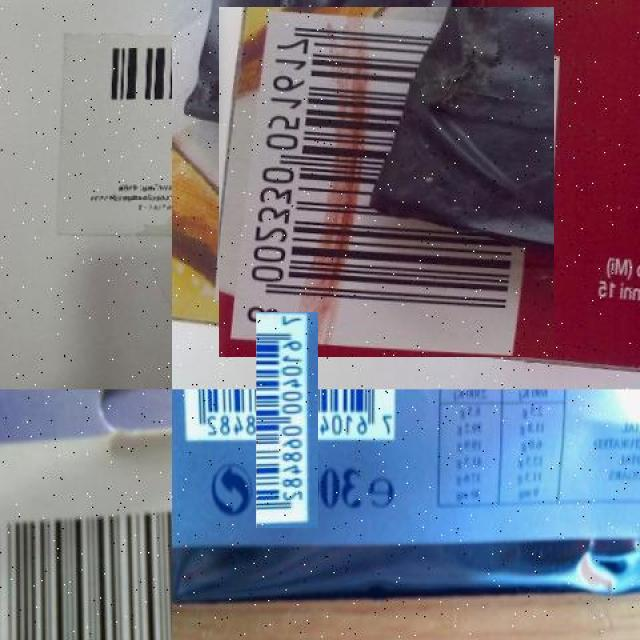Barcode: (214, 11, 558, 354), (0, 484, 172, 640), (218, 350, 357, 490), (92, 31, 172, 128)
